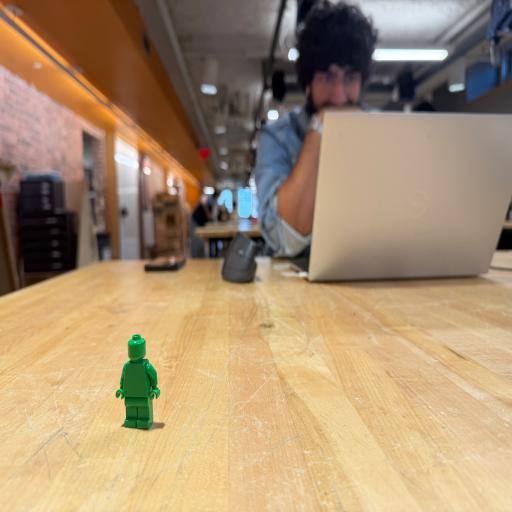Lego-Dude: (116, 334, 160, 429)
